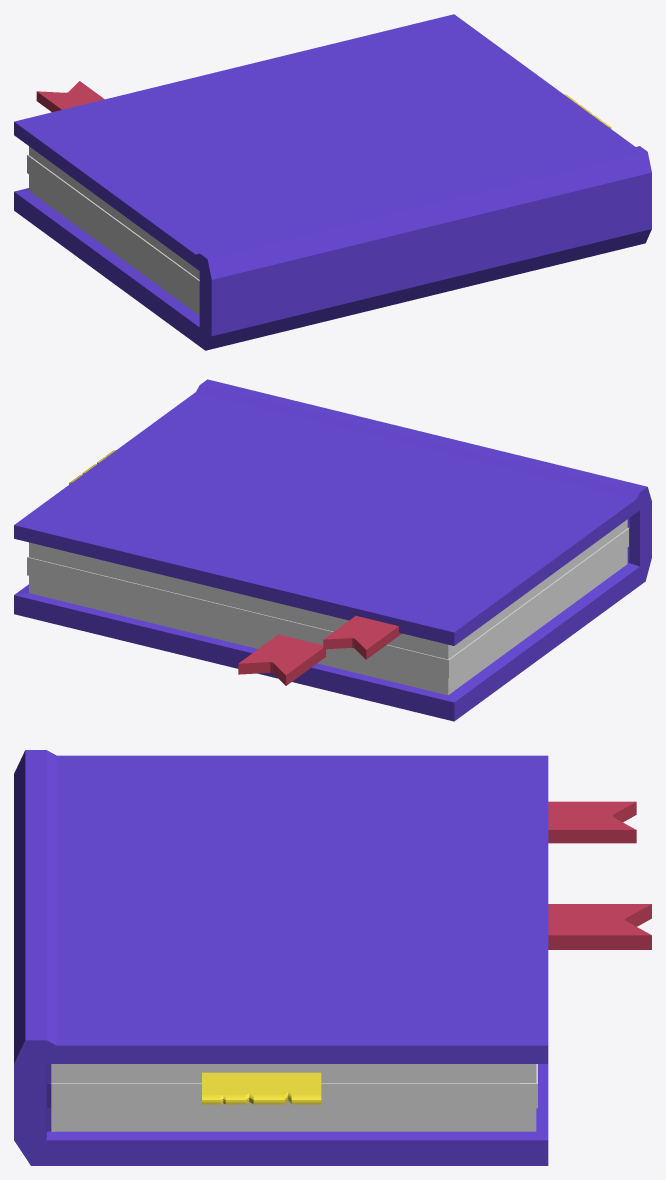
File: libromodelo.fbx
3 views of the same model, one above another, from view 1: azimuth 30°, elevation 25°; view 2: azimuth 150°, elevation 25°; view 3: azimuth 270°, elevation 25° (orthographic). The views are drawn at different scales.
Parts seen in each view (by area): view 1: Cube, Cube.002; view 2: Cube, Cube.002; view 3: Cube, Cube.002, Cube.001.
Boxes of the visible parts, left/top/right/bottom form: Cube: left=14, top=14, right=651, bottom=350; Cube.002: left=36, top=81, right=104, bottom=112; Cube: left=14, top=379, right=651, bottom=721; Cube.002: left=238, top=616, right=401, bottom=685; Cube: left=14, top=750, right=548, bottom=1165; Cube.002: left=548, top=801, right=651, bottom=949; Cube.001: left=202, top=1072, right=321, bottom=1104.
Bounding box in the file's own units: 274 × 51.96 × 239.
